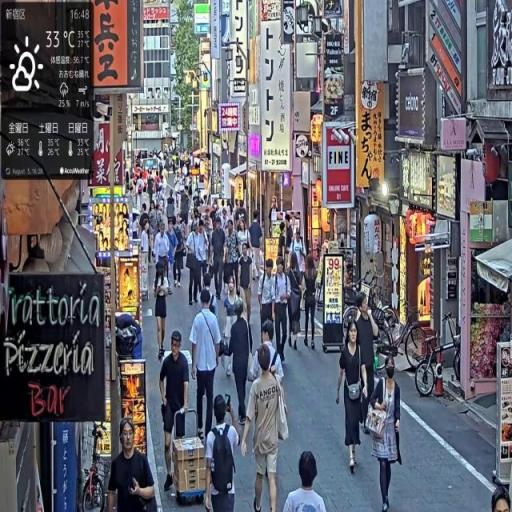person: (242, 344, 291, 512), (367, 356, 404, 512), (336, 323, 370, 475), (159, 330, 190, 496), (191, 287, 222, 450), (106, 418, 157, 512), (204, 393, 242, 512), (226, 295, 255, 434), (356, 293, 381, 429), (283, 450, 328, 512), (188, 220, 208, 307), (155, 257, 172, 359), (259, 257, 278, 347), (302, 256, 320, 351), (239, 242, 255, 329)
